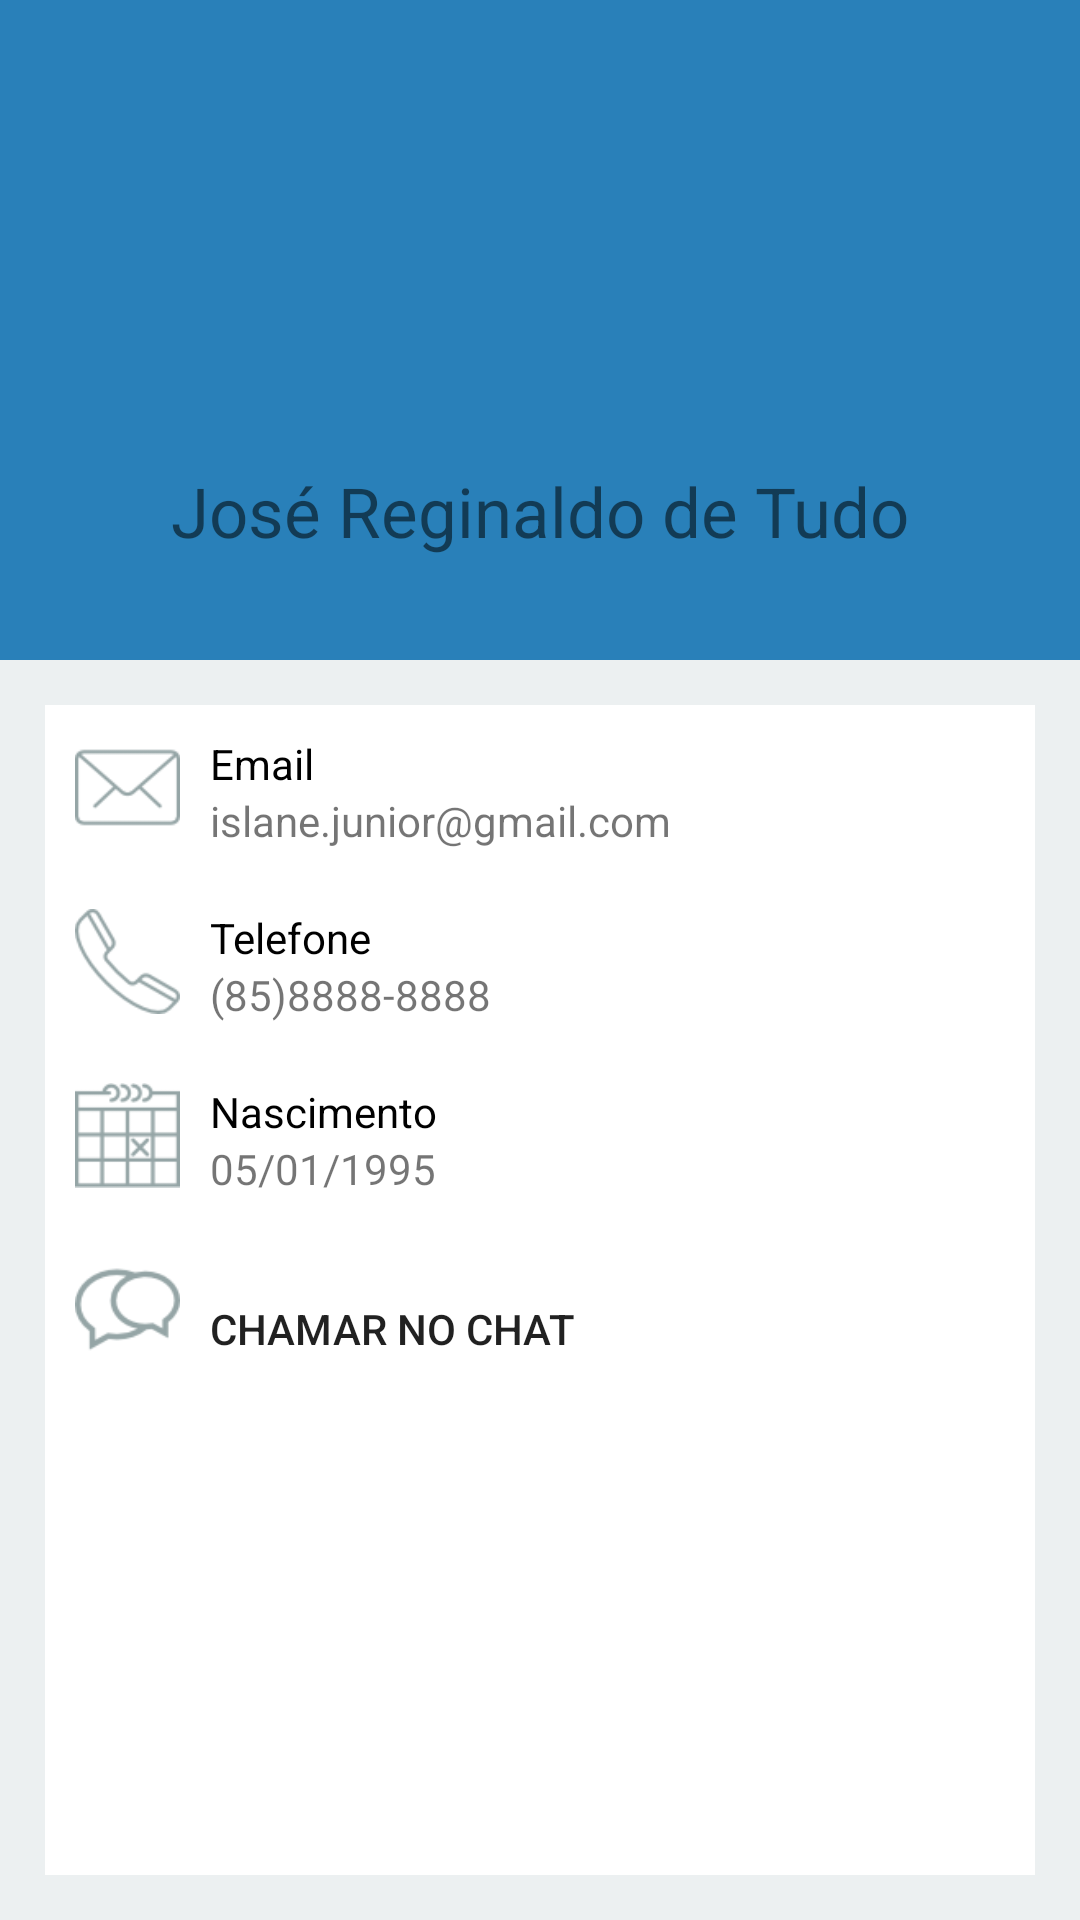

Screen size 1080px x 1920px. Icon name, then its center in pixels as point (x, y):
tagyou chat details: point (127, 1309)
tagyou date: point (127, 1135)
tagyou phone: point (127, 961)
